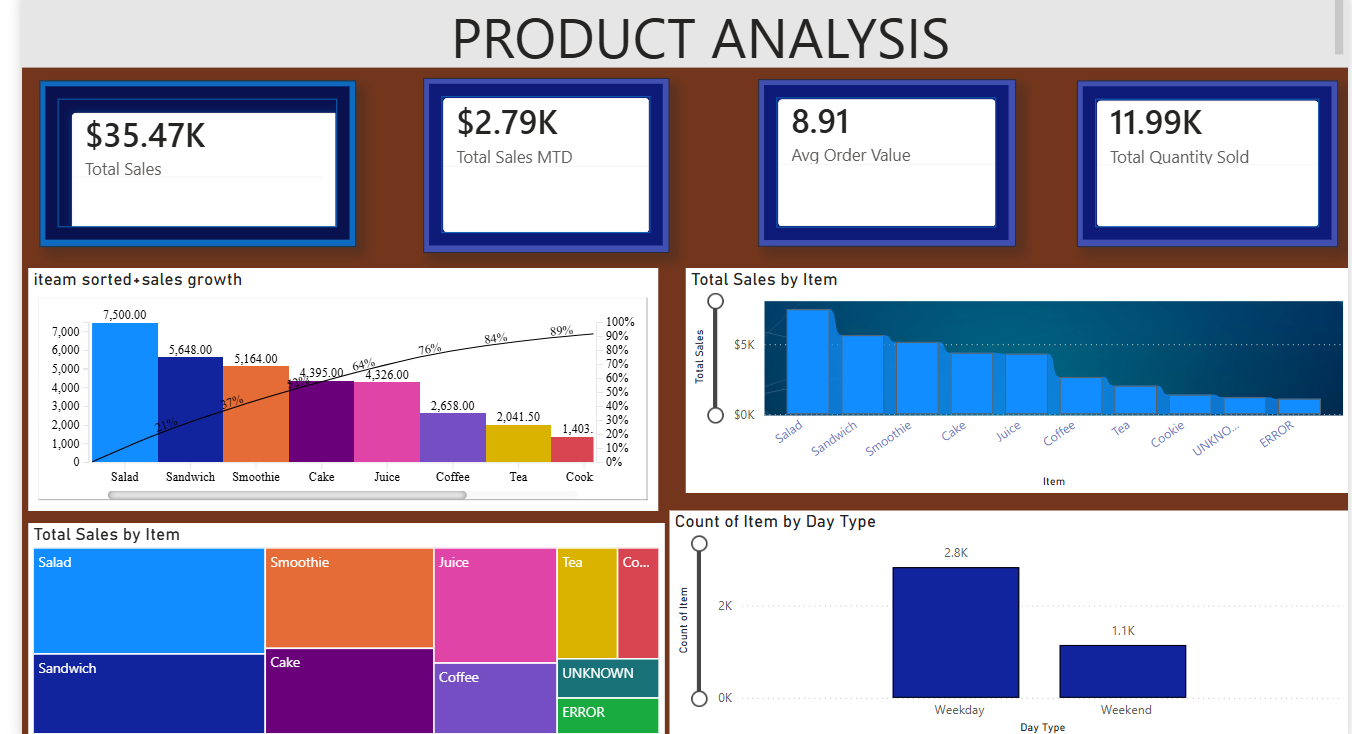

Layout of this report page (visuals, bound fields, positions):
{"tool":"powerbi","page":{"name":"product analysis","canvas":[1280,720],"ordinal":1},"visuals":[{"type":"textbox","box":[0,0,1280,72.4],"z":0},{"type":"cardVisual","fields":{"Data":["dirty_cafe_sales.Total Sales"]},"box":[16.9,84.5,305.2,160.5],"z":1000},{"type":"cardVisual","fields":{"Data":["dirty_cafe_sales.Total Quantity Sold"]},"box":[1018.2,84.5,252.1,160.5],"z":2000},{"type":"cardVisual","fields":{"Data":["dirty_cafe_sales.Avg Order Value"]},"box":[710.6,83.2,248.5,161.7],"z":3000},{"type":"cardVisual","fields":{"Data":["dirty_cafe_sales.Total Sales MTD"]},"box":[387.3,82,237.7,168.9],"z":4000},{"type":"columnChart","fields":{"Category":["dirty_cafe_sales.Item"],"Y":["dirty_cafe_sales.Total Sales"]},"box":[640.6,265.4,639.4,217.2],"z":5000},{"type":"paretoplus2EFEC13210A14D3E82580687601DE984","title":"iteam sorted+sales growth","fields":{"values":["dirty_cafe_sales.Total Sales"],"categories":["dirty_cafe_sales.Item"]},"box":[6,265.4,608,234],"z":6000},{"type":"treemap","fields":{"Group":["dirty_cafe_sales.Item"],"Values":["dirty_cafe_sales.Total Sales"]},"box":[6,511.5,614.1,208.7],"z":7000},{"type":"clusteredColumnChart","fields":{"Category":["dirty_cafe_sales.Day Type"],"Y":["CountNonNull(dirty_cafe_sales.Item)"]},"box":[624.9,499.5,655.1,220.8],"z":8000}]}

Visuals, with their boxes in screenshot pixels (x1, y1, x2, y2):
textbox: rect(14, 0, 1345, 61)
cardVisual - dirty_cafe_sales.Total Sales: rect(32, 74, 349, 241)
cardVisual - dirty_cafe_sales.Total Quantity Sold: rect(1073, 74, 1335, 241)
cardVisual - dirty_cafe_sales.Avg Order Value: rect(753, 72, 1011, 241)
cardVisual - dirty_cafe_sales.Total Sales MTD: rect(417, 71, 664, 247)
columnChart - dirty_cafe_sales.Item x dirty_cafe_sales.Total Sales: rect(680, 262, 1345, 488)
"iteam sorted+sales growth" paretoplus2EFEC13210A14D3E82580687601DE984: rect(20, 262, 653, 505)
treemap - dirty_cafe_sales.Item x dirty_cafe_sales.Total Sales: rect(20, 518, 659, 733)
clusteredColumnChart - dirty_cafe_sales.Day Type x CountNonNull(dirty_cafe_sales.Item): rect(664, 505, 1345, 733)
